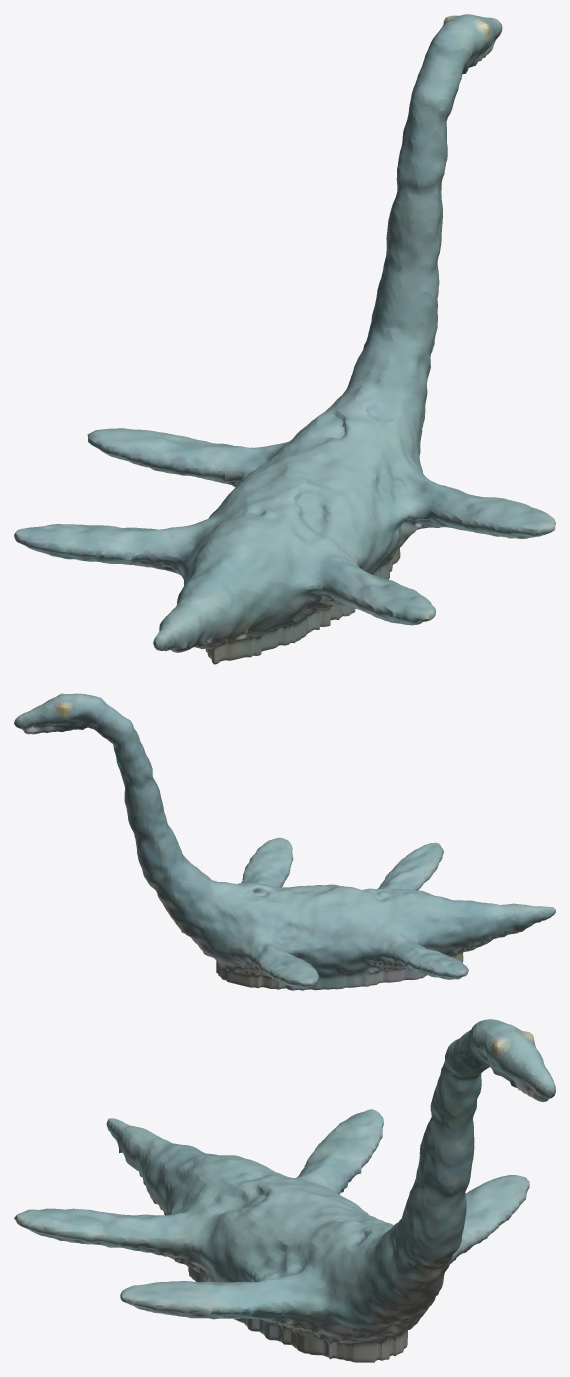
3 views of the same model, one above another, from view 1: azimuth 30°, elevation 25°; view 2: azimuth 150°, elevation 25°; view 3: azimuth 270°, elevation 25° (orthographic). The views are drawn at different scales.
Size of the model in its own units: 0.1811 by 0.1261 by 0.1534.
